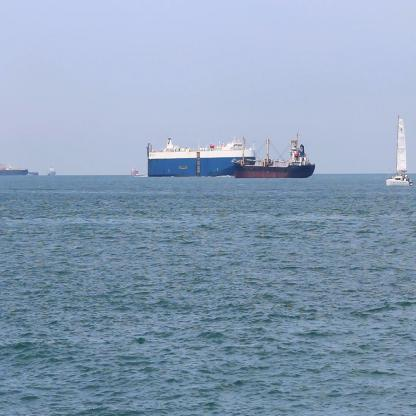Container Ship: (145, 134, 258, 180), (230, 128, 318, 181), (0, 161, 32, 180), (46, 163, 58, 179), (130, 165, 140, 178)
